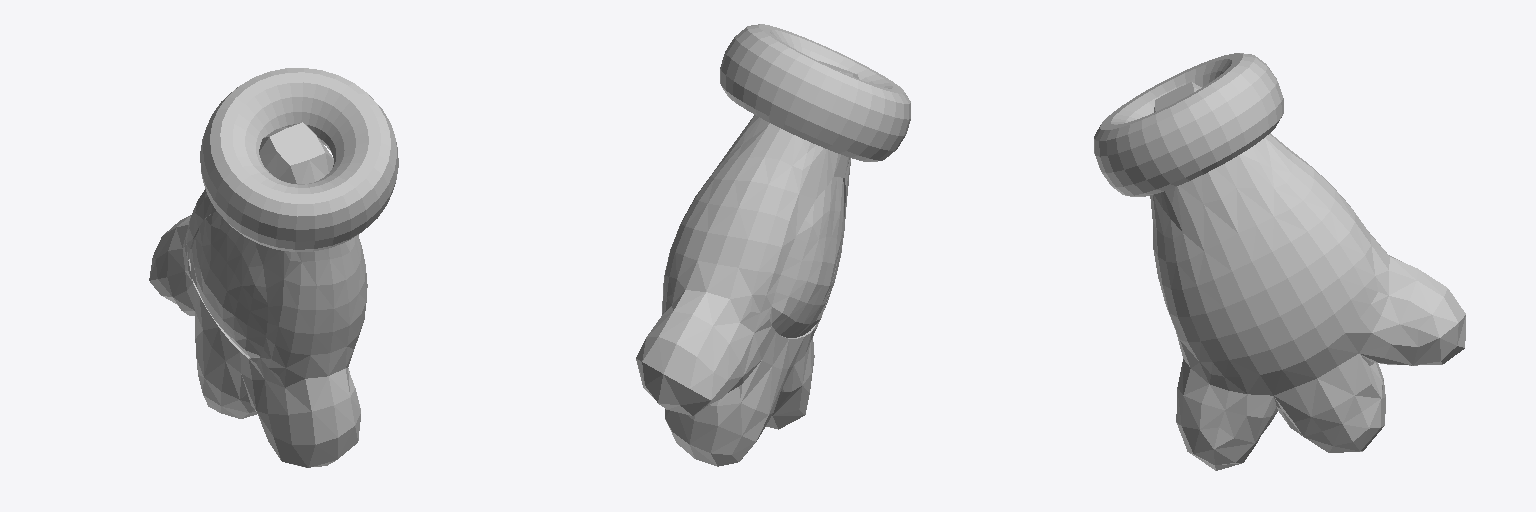
The model's file is fistglove.obj.
3 views of the same model, side by side, from view 1: azimuth 30°, elevation 25°; view 2: azimuth 150°, elevation 25°; view 3: azimuth 270°, elevation 25° (orthographic).
Visible parts, largest first — view 1: cube13_copy17_default; view 2: cube13_copy17_default; view 3: cube13_copy17_default.
Part boxes in pixels (x1,y1,x2,y2): cube13_copy17_default: (149,68,398,467); cube13_copy17_default: (636,24,910,466); cube13_copy17_default: (1094,53,1465,470).
Size of the model in its own units: 11.55 by 24.81 by 21.34.